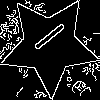I: (24, 20, 68, 59)
